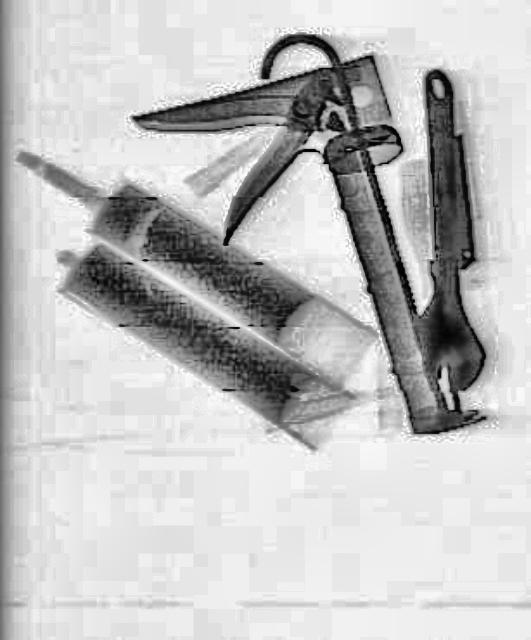Knife: (128, 32, 482, 502)
Wrench: (376, 65, 486, 393)
